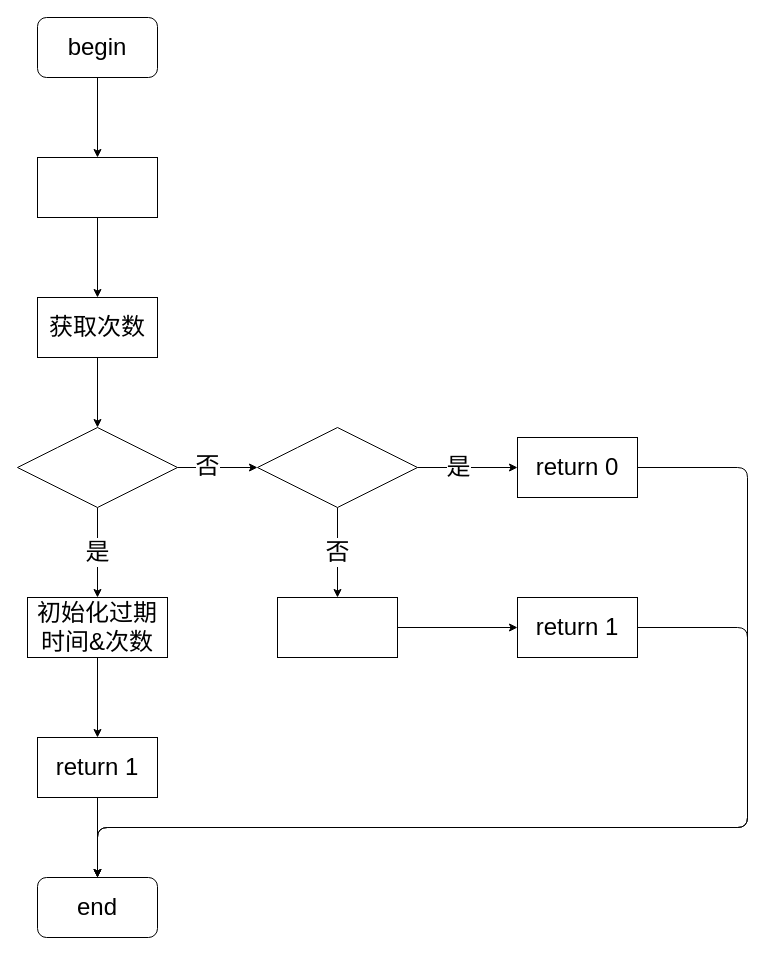
Some shapes in this 773 by 955 pixel diagram are drawn without their labels. Here are the shapes that lost their labels. From the top down, the centre of each, then its label:
the point at 97,187: 传入参数
the point at 97,467: 首次设置
the point at 337,467: 超过限制
the point at 337,627: 次数 +1
